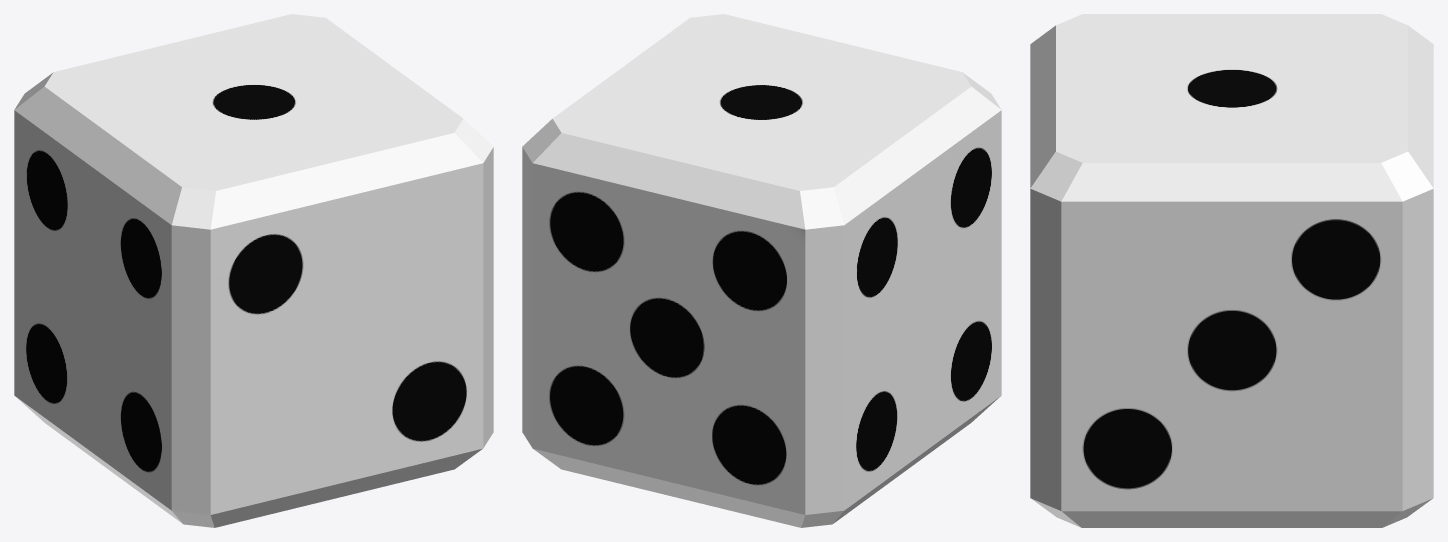
The model's file is Dice 2.fbx.
The picture shows the model from 3 angles, left to right: view 1: azimuth 30°, elevation 25°; view 2: azimuth 150°, elevation 25°; view 3: azimuth 270°, elevation 25°; orthographic projection. The views are drawn at different scales.
Visible parts, largest first — view 1: Dice; view 2: Dice; view 3: Dice.
Part boxes in pixels (bbox=[...]): Dice: bbox=[14, 14, 493, 527]; Dice: bbox=[522, 14, 1001, 527]; Dice: bbox=[1030, 14, 1433, 527].
Size of the model in its own units: 6.52 by 6.52 by 6.52.
